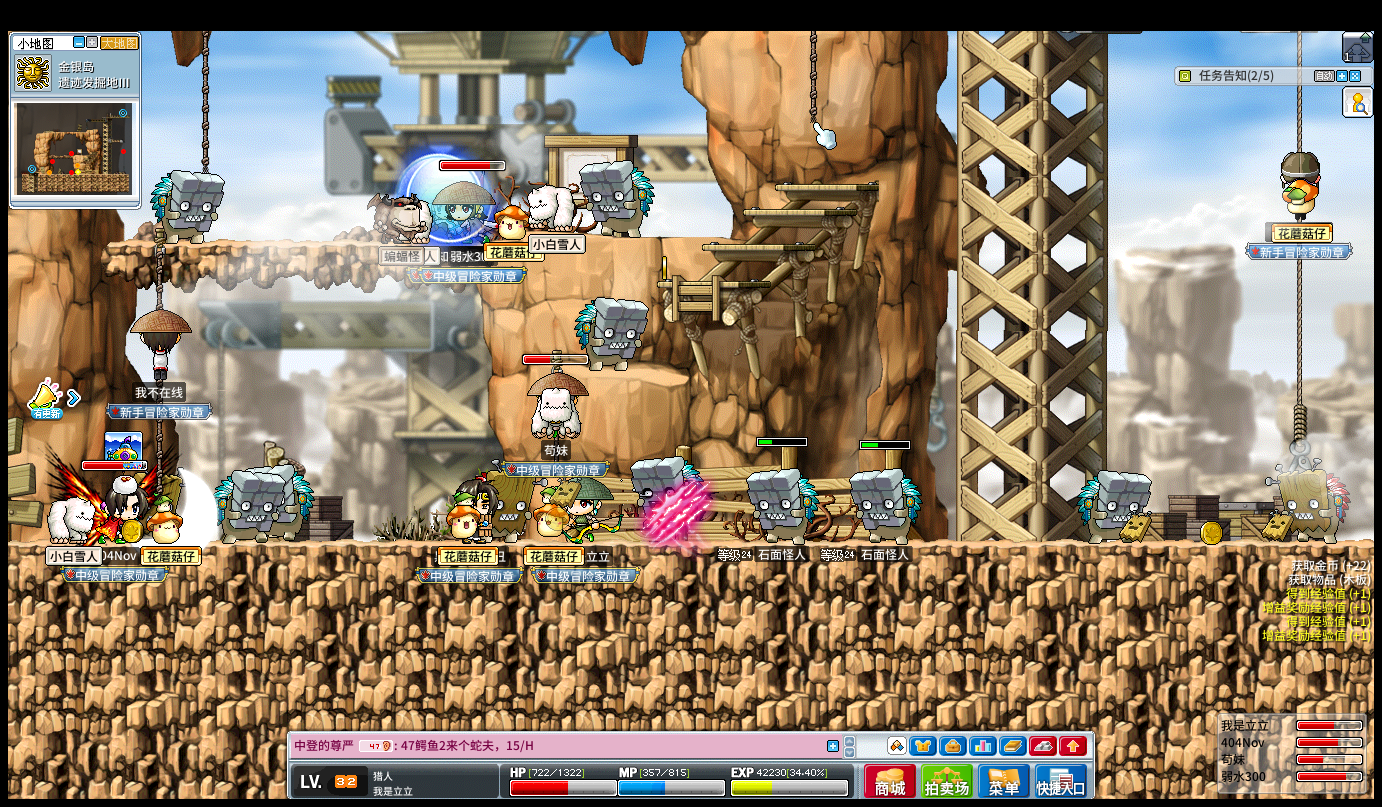floor: (110, 239, 482, 250), (532, 231, 739, 242), (579, 365, 691, 385), (552, 233, 734, 244), (585, 233, 735, 243), (656, 279, 769, 291), (741, 205, 854, 215), (653, 279, 769, 288), (697, 243, 815, 251), (738, 207, 852, 214), (775, 184, 876, 191)
monster: (1271, 463, 1348, 542), (580, 158, 655, 236), (632, 456, 702, 538), (149, 169, 225, 244), (1077, 469, 1151, 544), (574, 296, 648, 371), (849, 468, 922, 542), (747, 468, 818, 542), (214, 468, 281, 545), (273, 466, 314, 544)
rope: (198, 30, 210, 176), (1295, 257, 1304, 407), (808, 31, 820, 124), (807, 29, 817, 125), (1296, 30, 1304, 149), (153, 231, 165, 307), (1295, 29, 1301, 148), (1292, 397, 1305, 443), (157, 414, 164, 481)
